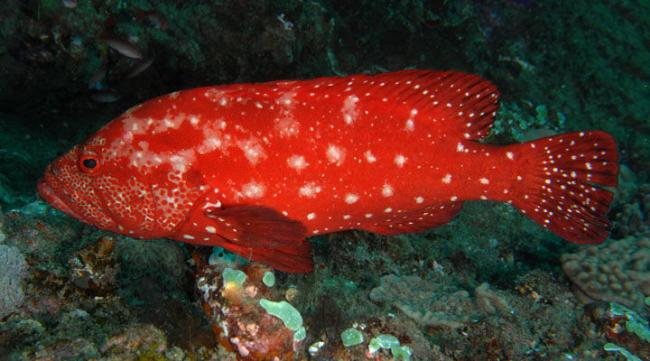fish: (39, 70, 617, 277)
